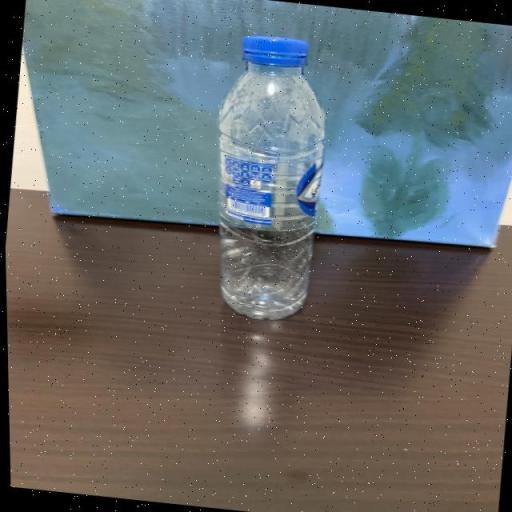plastic: (215, 35, 325, 322)
